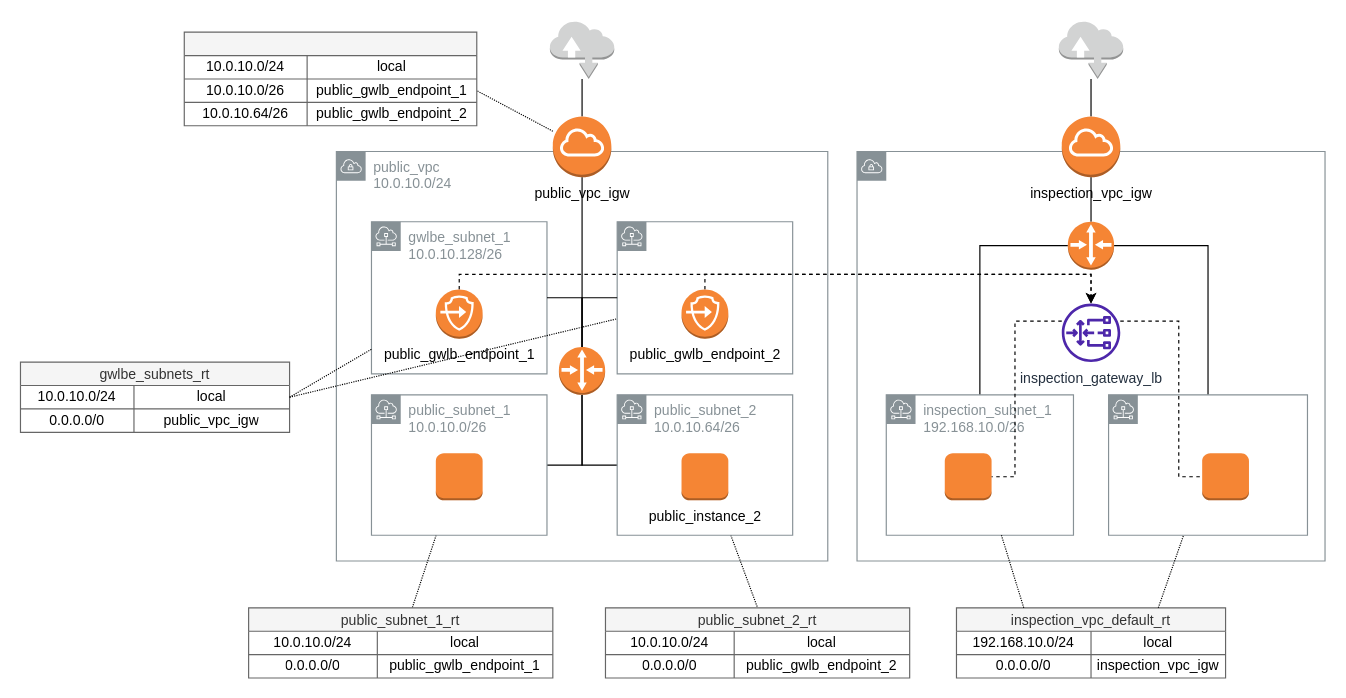
This 1346x698 diagram has some shape labels left out. Each missing label, with the box of its shape:
gwlbe_subnet_2 10.0.10.192/26: (616, 221, 793, 374)
igw_ingress_rt: (183, 31, 477, 126)
inspection_instance_1: (944, 452, 992, 500)
inspection_instance_2: (1201, 452, 1249, 500)
inspection_subnet_2 192.168.10.64/26: (1107, 394, 1307, 535)
inspection_vpc 192.168.10.0/24: (856, 150, 1325, 561)
public_instance_1: (435, 452, 483, 500)
